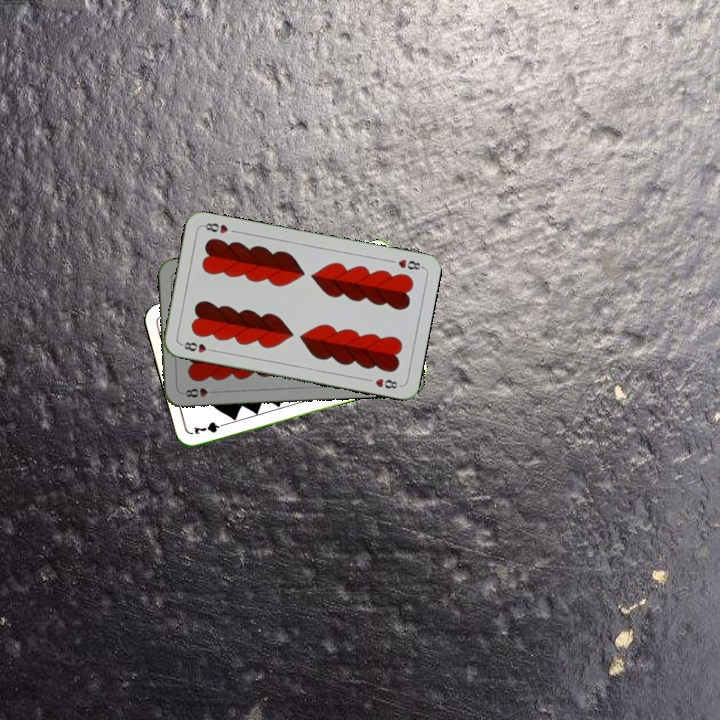G7: (190, 418, 230, 437)
H8: (177, 338, 217, 355), (385, 255, 425, 272), (179, 384, 219, 400)
